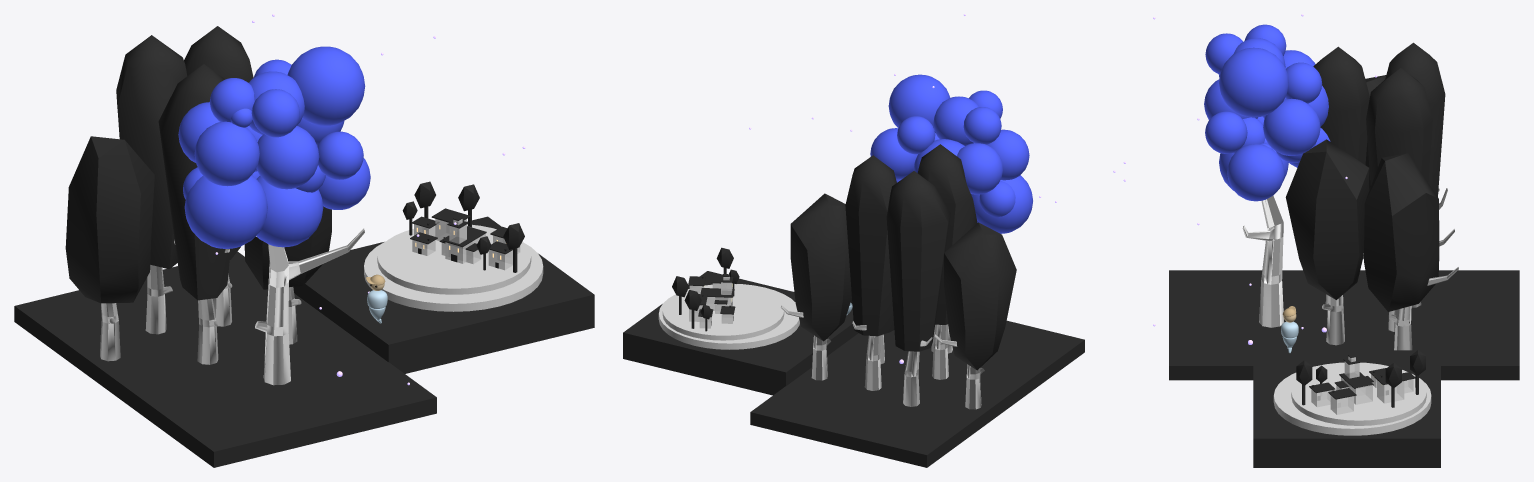
The model's file is Mystique (1).fbx.
The picture shows the model from 3 angles, left to right: view 1: azimuth 30°, elevation 25°; view 2: azimuth 150°, elevation 25°; view 3: azimuth 270°, elevation 25°; orthographic projection. The views are drawn at different scales.
Visible parts, largest first — view 1: Sol_gauche, Sol_droite, Solide_Platonicien_2, Cylindre_8, Cylindre_1, sol_2, Sphère_4, Sphère_5, Cylindre, sol, Sphère_10, Sphère_13 (+13 smaller); view 2: Sol_gauche, Sol_droite, Cylindre_8, Solide_Platonicien_2, Solide_Platonicien_1, Cylindre_5, sol_2, Cylindre_1, Sphère_5, sol, Sphère_3, Sphère_4 (+12 smaller); view 3: Sol_gauche, Sol_droite, Solide_Platonicien_1, Solide_Platonicien, Cylindre_5, Cylindre_1, sol_2, Sphère_5, Cylindre, Cylindre_8, Sphère_2, sol (+12 smaller).
Part boxes in pixels (bbox=[...]): Sol_gauche: bbox=[14, 251, 436, 467]; Sol_droite: bbox=[293, 216, 594, 373]; Solide_Platonicien_2: bbox=[65, 136, 154, 303]; Cylindre_8: bbox=[116, 35, 187, 269]; Cylindre_1: bbox=[158, 64, 230, 300]; sol_2: bbox=[377, 224, 531, 294]; Sphère_4: bbox=[184, 175, 267, 248]; Sphère_5: bbox=[287, 46, 365, 125]; Cylindre: bbox=[255, 228, 364, 385]; sol: bbox=[364, 241, 543, 311]; Sphère_10: bbox=[194, 121, 259, 186]; Sphère_13: bbox=[256, 176, 323, 247]; Sol_gauche: bbox=[750, 320, 1084, 467]; Sol_droite: bbox=[623, 271, 858, 395]; Cylindre_8: bbox=[886, 171, 950, 351]; Solide_Platonicien_2: bbox=[944, 222, 1016, 370]; Solide_Platonicien_1: bbox=[790, 193, 851, 341]; Cylindre_5: bbox=[845, 155, 896, 336]; sol_2: bbox=[662, 284, 784, 340]; Cylindre_1: bbox=[917, 144, 977, 324]; Sphère_5: bbox=[888, 74, 950, 133]; sol: bbox=[658, 284, 799, 349]; Sphère_3: bbox=[957, 143, 1002, 194]; Sphère_4: bbox=[971, 175, 1032, 233]; Sol_gauche: bbox=[1169, 270, 1519, 380]; Sol_droite: bbox=[1253, 350, 1440, 467]; Solide_Platonicien_1: bbox=[1364, 153, 1439, 311]; Solide_Platonicien: bbox=[1285, 139, 1369, 299]; Cylindre_5: bbox=[1366, 68, 1432, 185]; Cylindre_1: bbox=[1313, 46, 1369, 164]; sol_2: bbox=[1291, 363, 1426, 425]; Sphère_5: bbox=[1219, 47, 1288, 117]; Cylindre: bbox=[1242, 195, 1284, 327]; Cylindre_8: bbox=[1384, 42, 1445, 196]; Sphère_2: bbox=[1227, 144, 1284, 201]; sol: bbox=[1273, 362, 1431, 435].
Bounding box in the file's own units: 130 × 106 × 117.
